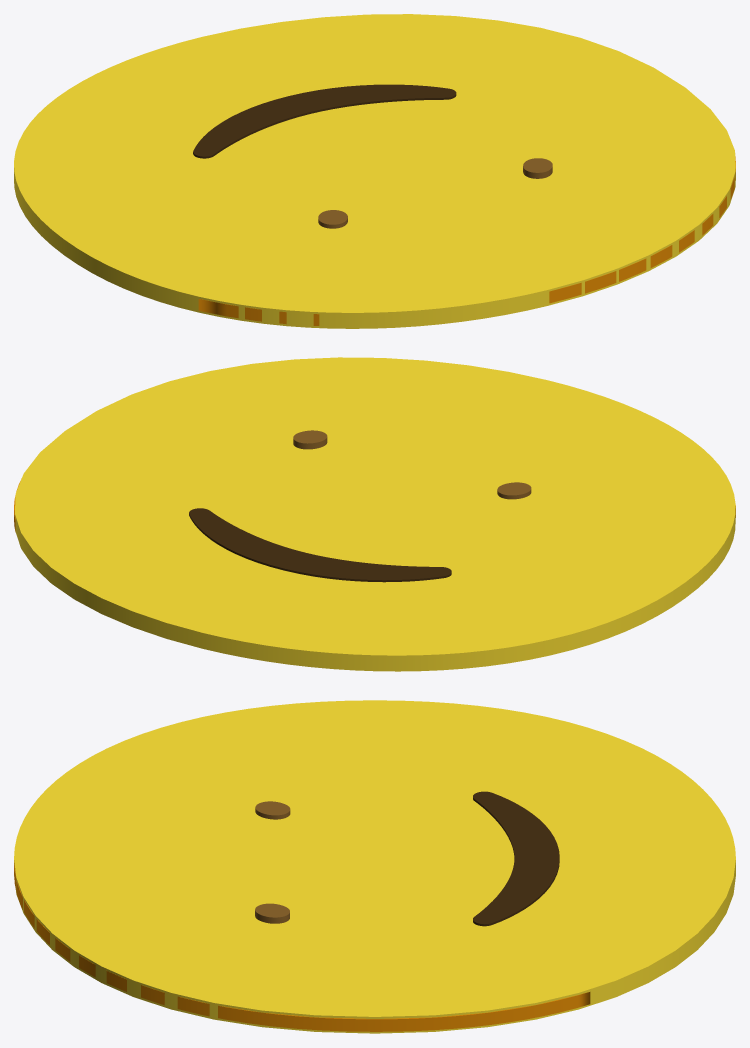
Rendered from emoji_u1f643.glb.
The picture shows the model from 3 angles, top to bottom: view 1: azimuth 30°, elevation 25°; view 2: azimuth 150°, elevation 25°; view 3: azimuth 270°, elevation 25°; orthographic projection. The views are drawn at different scales.
Parts seen in each view (by area): view 1: emoji_u1f643; view 2: emoji_u1f643; view 3: emoji_u1f643.
Boxes of the visible parts, bbox=[...] form: emoji_u1f643: bbox=[14, 14, 735, 328]; emoji_u1f643: bbox=[14, 357, 735, 671]; emoji_u1f643: bbox=[14, 700, 735, 1033].
Bounding box in the file's own units: 0.0327 × 0.0014 × 0.0315.
